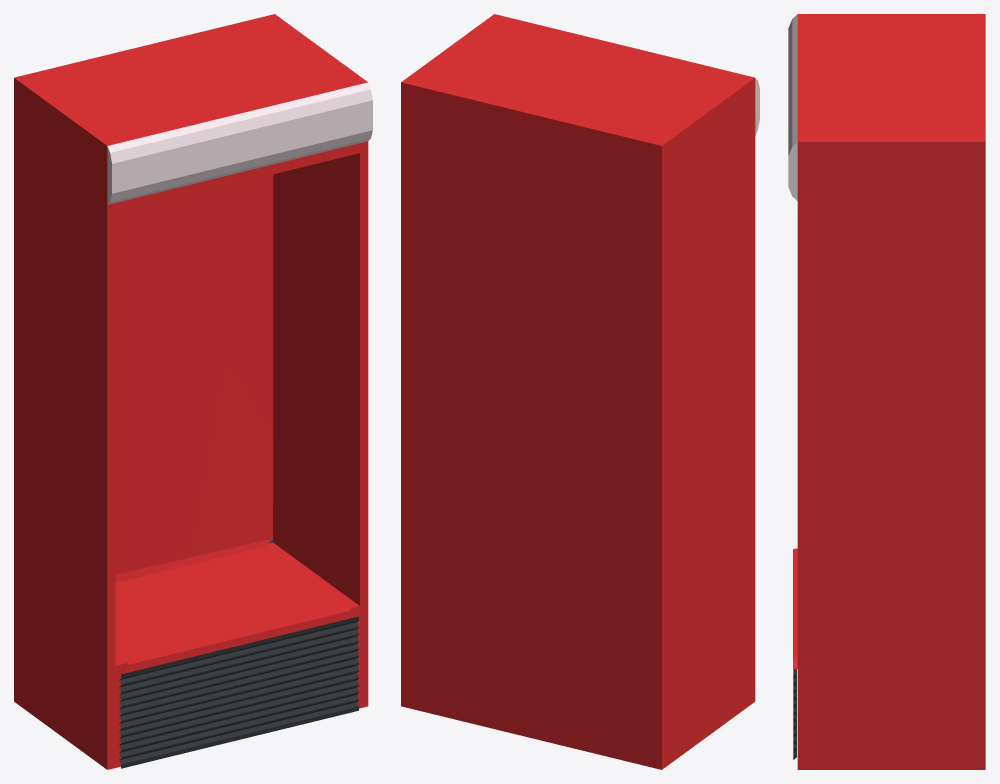
The model's file is SM_fridge_drinks_05.fbx.
The picture shows the model from 3 angles, left to right: view 1: azimuth 30°, elevation 25°; view 2: azimuth 150°, elevation 25°; view 3: azimuth 270°, elevation 25°; orthographic projection.
Parts seen in each view (by area): view 1: fridge_drinks_05; view 2: fridge_drinks_05; view 3: fridge_drinks_05.
Part boxes in pixels (x1,y1,x2,y2): fridge_drinks_05: (14,14,372,769); fridge_drinks_05: (401,14,759,769); fridge_drinks_05: (788,14,985,769).
Size of the model in its own units: 108 by 247 by 70.44.
